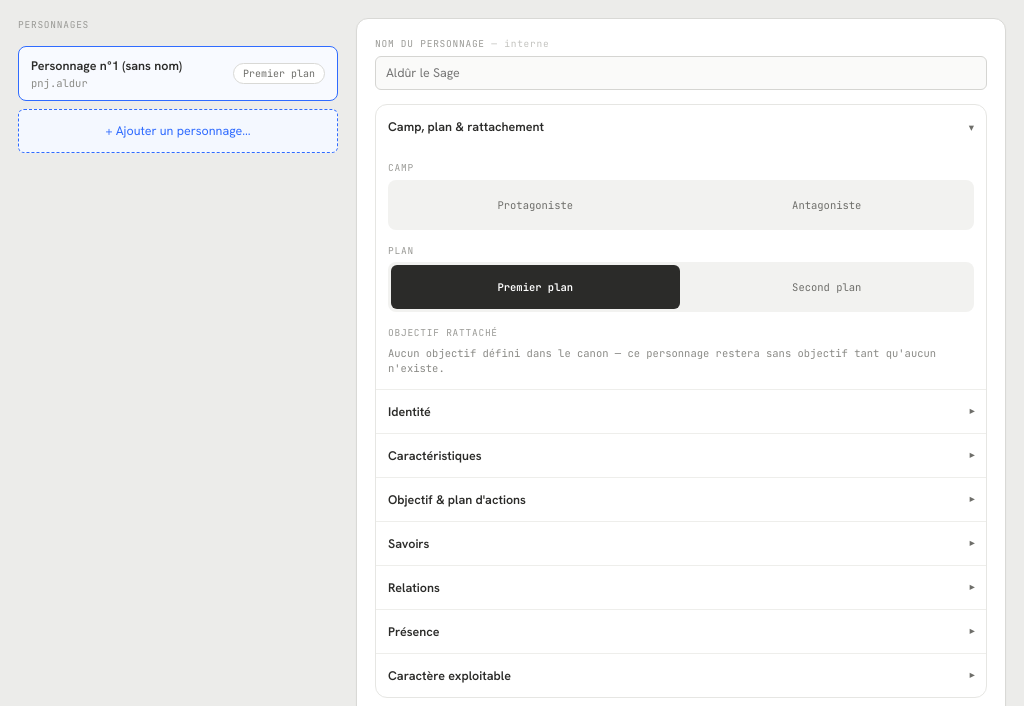
it: FichePersonnage - bloc Savoirs › porte indice prealable exclut l indice propre au savoir (self-exclusion)
The image size is (1024, 706).
Click the button "Savoirs ▾" at (409, 543), box [376,521,986,565]
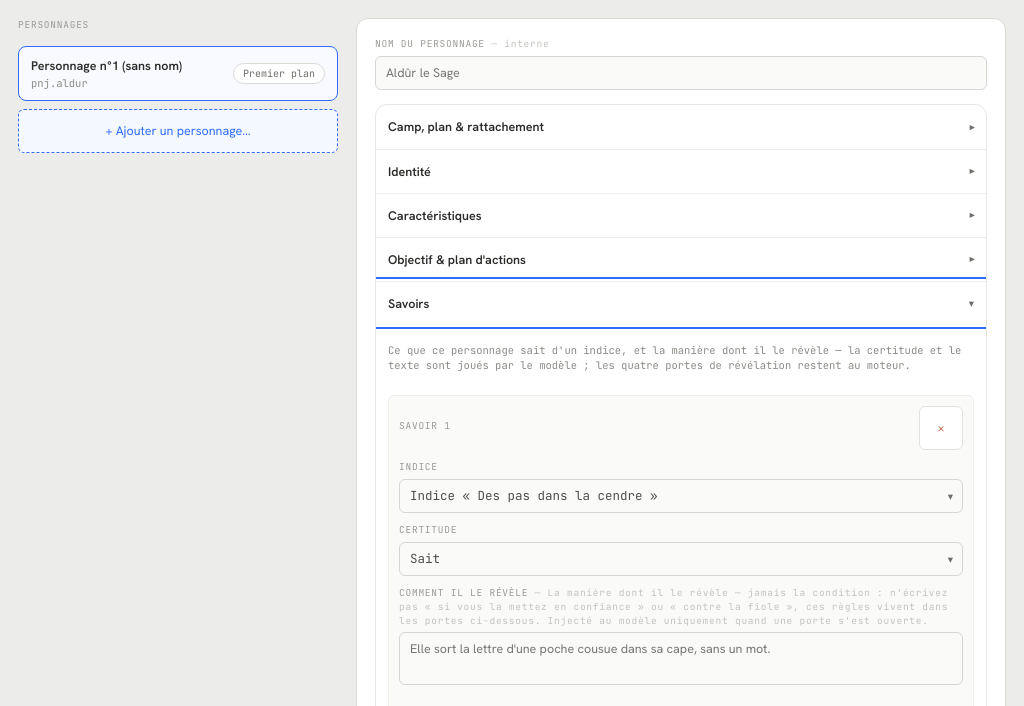
Check: the dropdown labelled "INDICE" shows "Indice « Des pas dans la cendre »", box [399,479,963,513]
